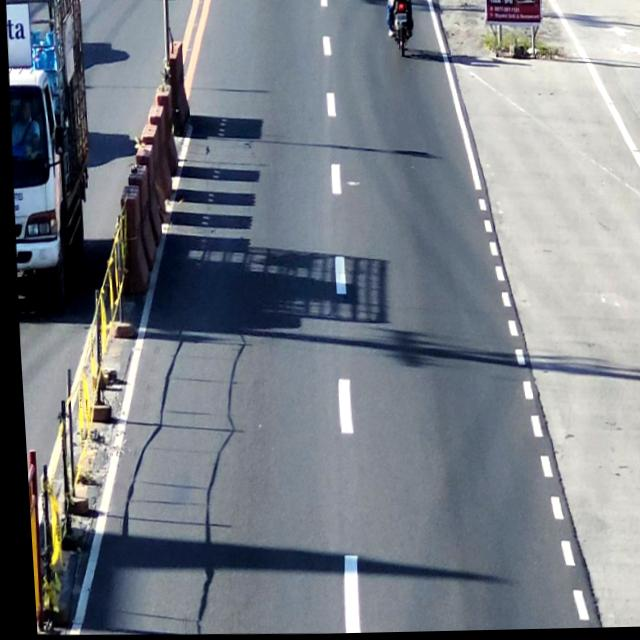Motorcycle: (385, 0, 419, 65)
